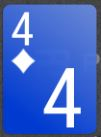Diamond: (11, 48, 36, 73)
